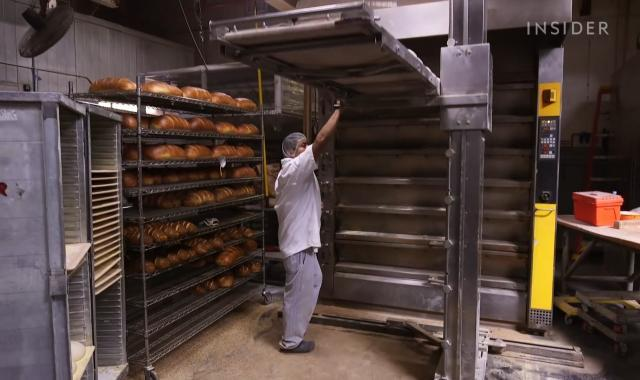Hairnet: (280, 132, 308, 160)
No_Apron: (274, 156, 323, 260)
No_Glove: (332, 90, 352, 112)
